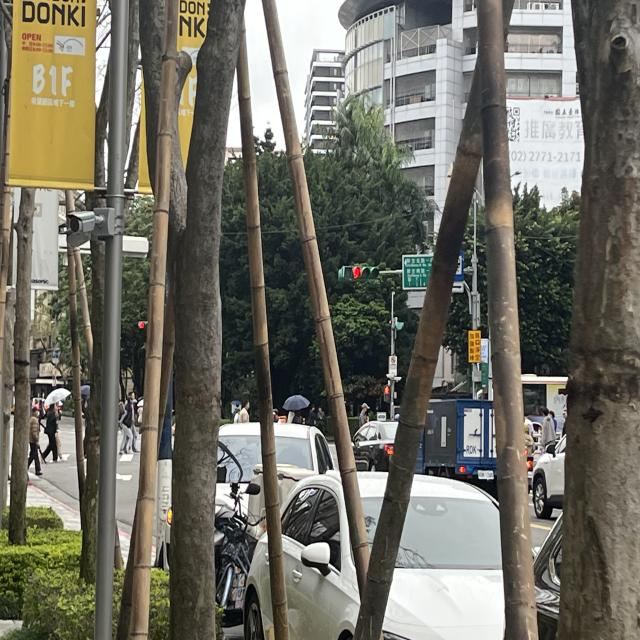red light: (340, 264, 382, 282), (384, 382, 391, 402), (139, 320, 150, 328)
